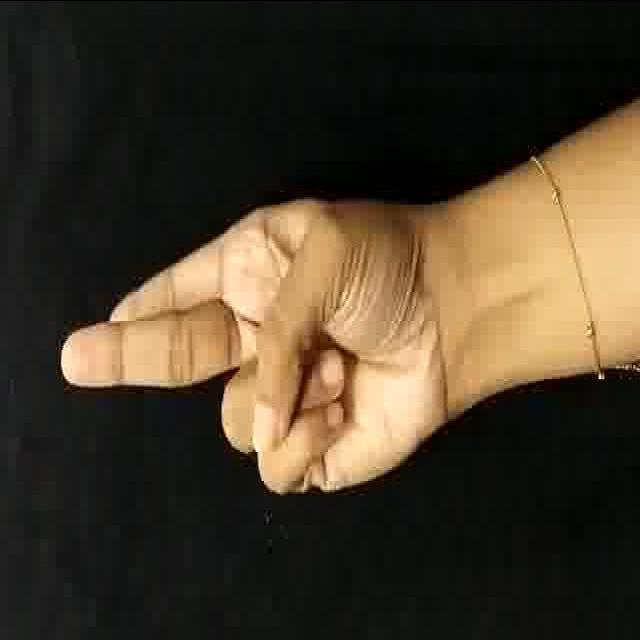kartarimukh: (45, 184, 479, 520)
